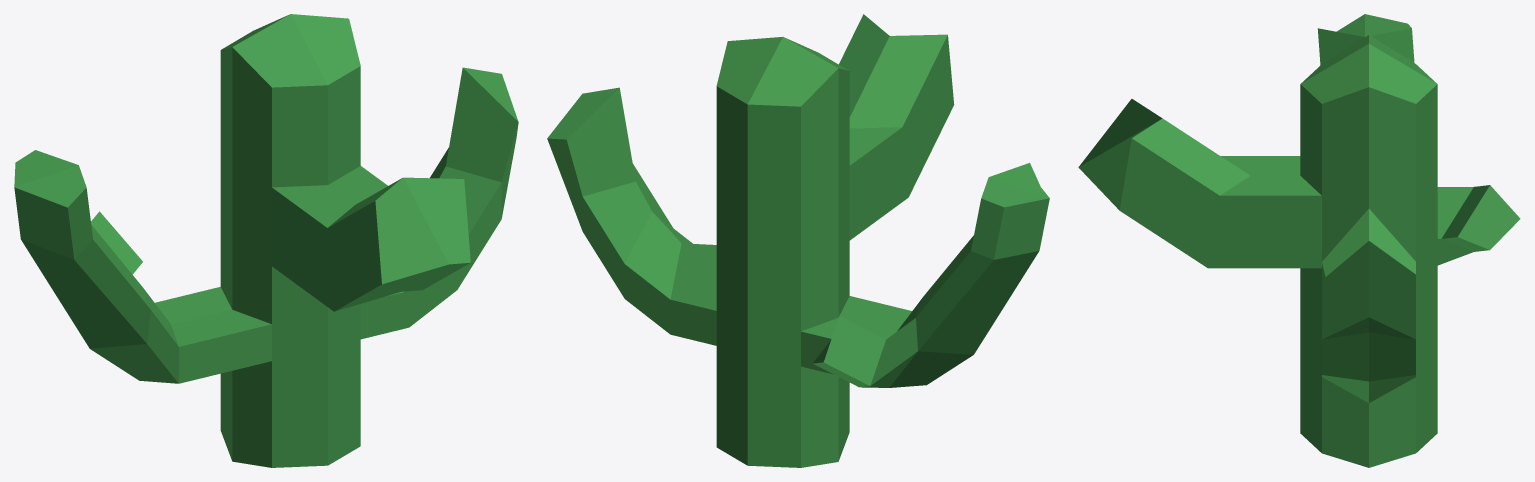
Rendered from cactus 2.fbx.
The picture shows the model from 3 angles, left to right: view 1: azimuth 30°, elevation 25°; view 2: azimuth 150°, elevation 25°; view 3: azimuth 270°, elevation 25°; orthographic projection. The views are drawn at different scales.
Parts seen in each view (by area): view 1: Cube.003; view 2: Cube.003; view 3: Cube.003.
Part boxes in pixels (box(x1,y1,x2,y2)): Cube.003: box(14, 14, 518, 467); Cube.003: box(547, 14, 1049, 467); Cube.003: box(1078, 14, 1520, 467).
Bounding box in the file's own units: 520 × 430 × 432.
